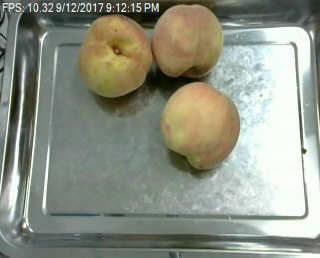Peach: (161, 82, 240, 168), (78, 13, 151, 97), (153, 2, 223, 76)
